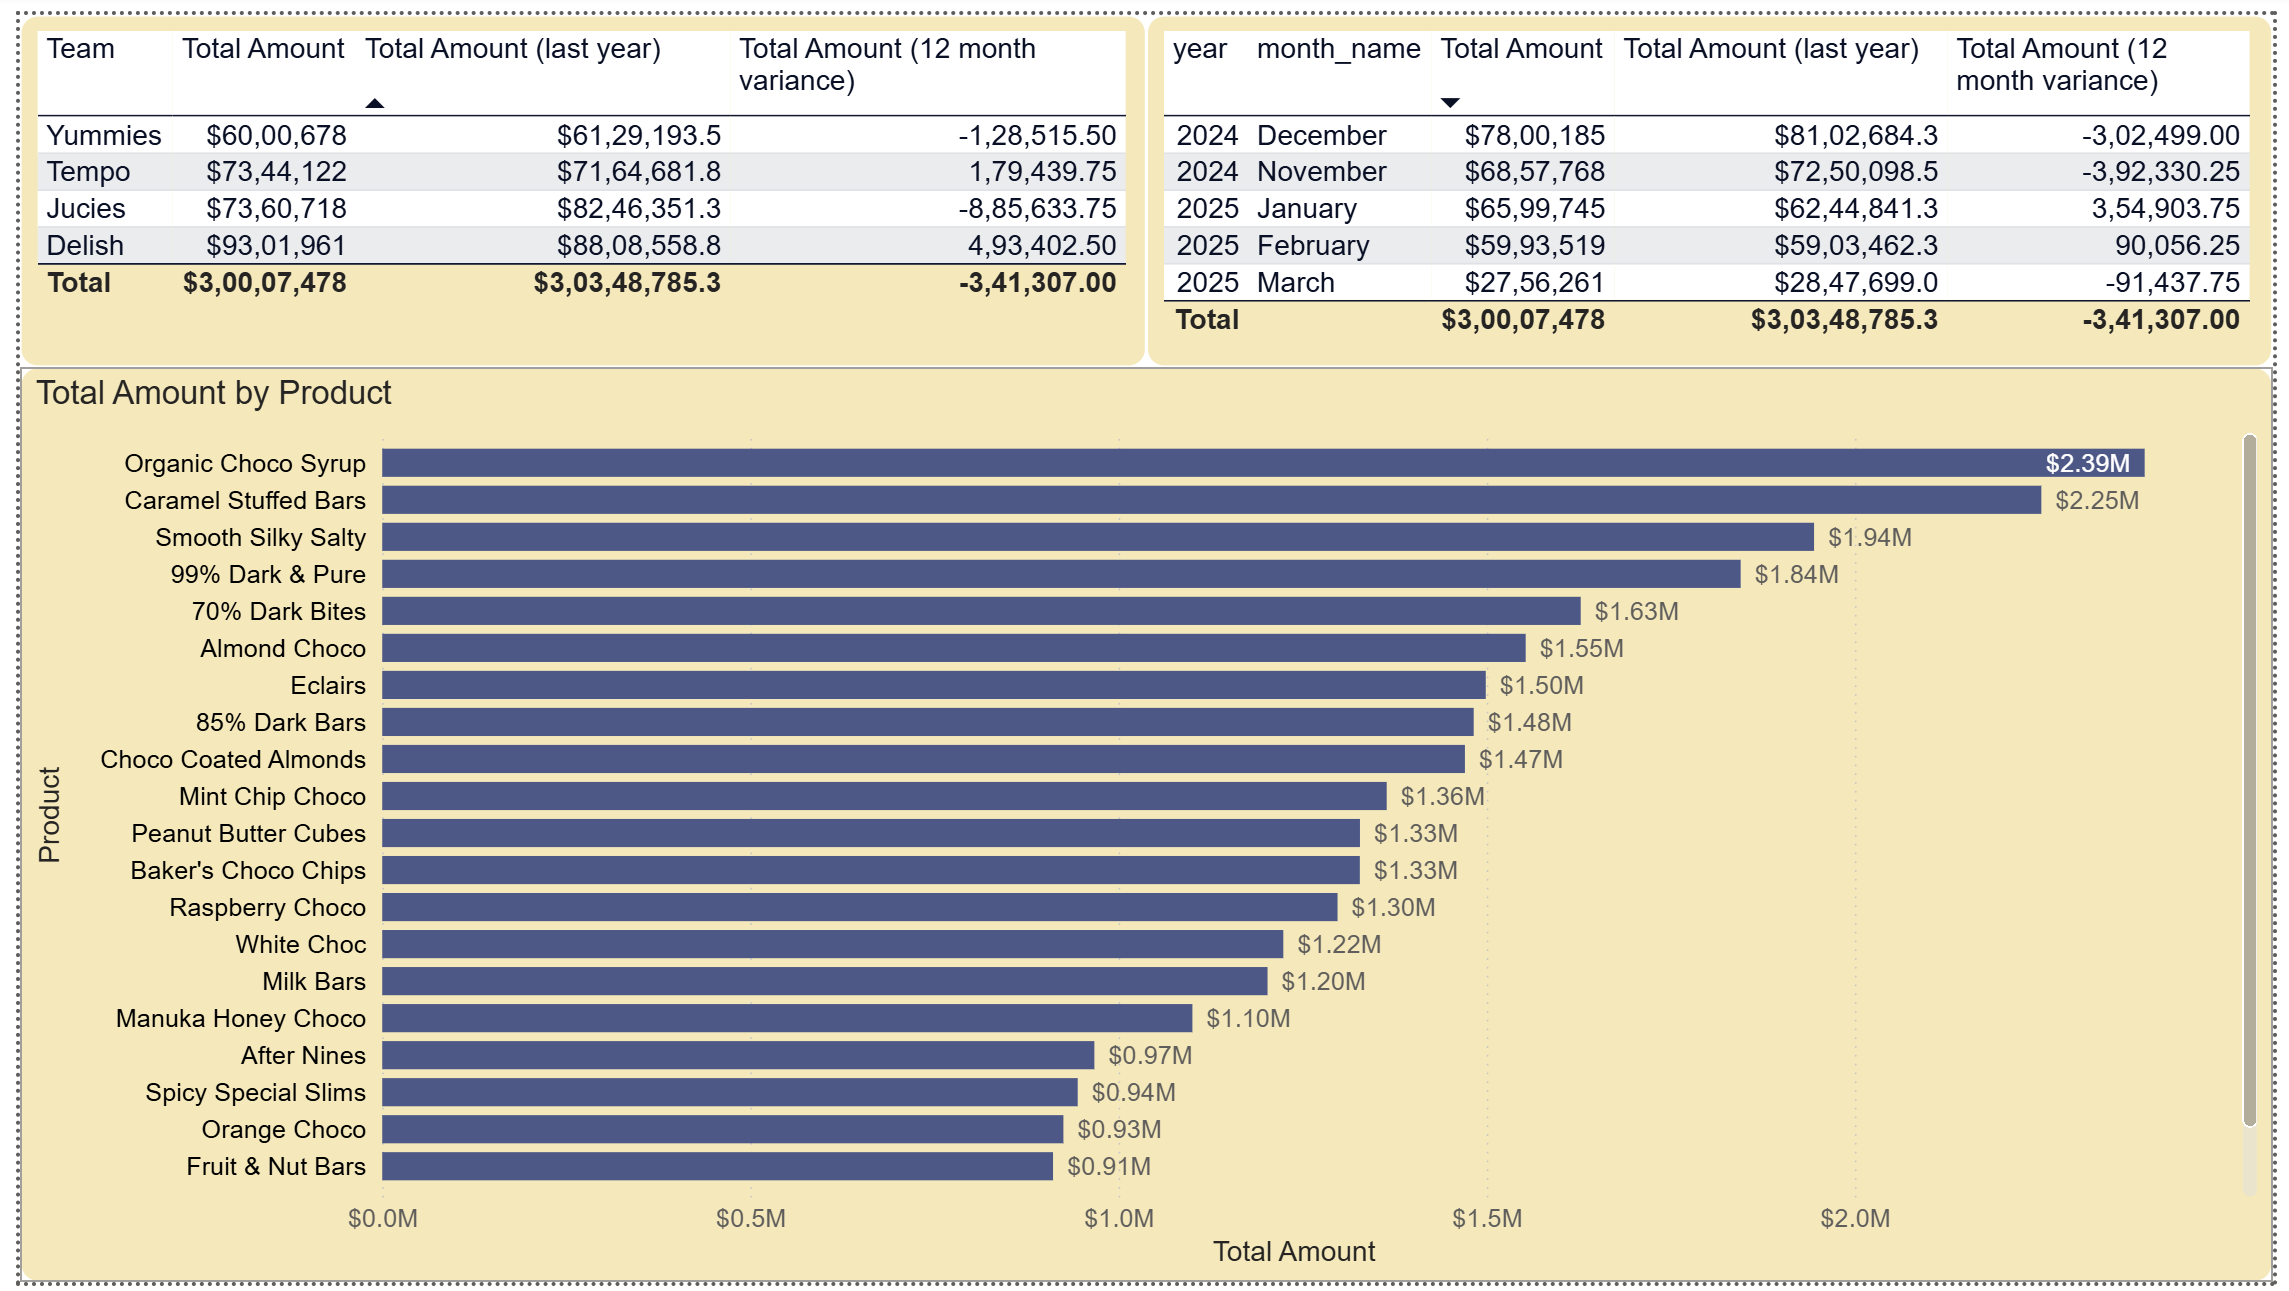

What the dashboard file says about the page in this screenshot:
{"tool":"powerbi","page":{"name":"Page 7","canvas":[1280,720],"ordinal":6},"visuals":[{"type":"tableEx","fields":{"Values":["people.Team","shipments.Total Amount","shipments.Total Amount (last year)","shipments.Total Amount (12 month variance)"]},"box":[0,0,640,200],"z":0},{"type":"clusteredBarChart","fields":{"Category":["products.Product"],"Y":["shipments.Total Amount"]},"box":[0,200,1280,520],"z":1000},{"type":"tableEx","fields":{"Values":["calendar.year","calendar.month_name","shipments.Total Amount","shipments.Total Amount (last year)","shipments.Total Amount (12 month variance)"]},"box":[640,0,640,200],"z":2000}]}

Visuals, with their boxes in screenshot pixels (x1, y1, x2, y2), scaled from the page's 1280x720 canvas onto the 2289x1291 screenshot:
tableEx - people.Team x shipments.Total Amount: x1=0, y1=0, x2=1144, y2=359
clusteredBarChart - products.Product x shipments.Total Amount: x1=0, y1=359, x2=2288, y2=1290
tableEx - calendar.year x calendar.month_name: x1=1144, y1=0, x2=2288, y2=359
